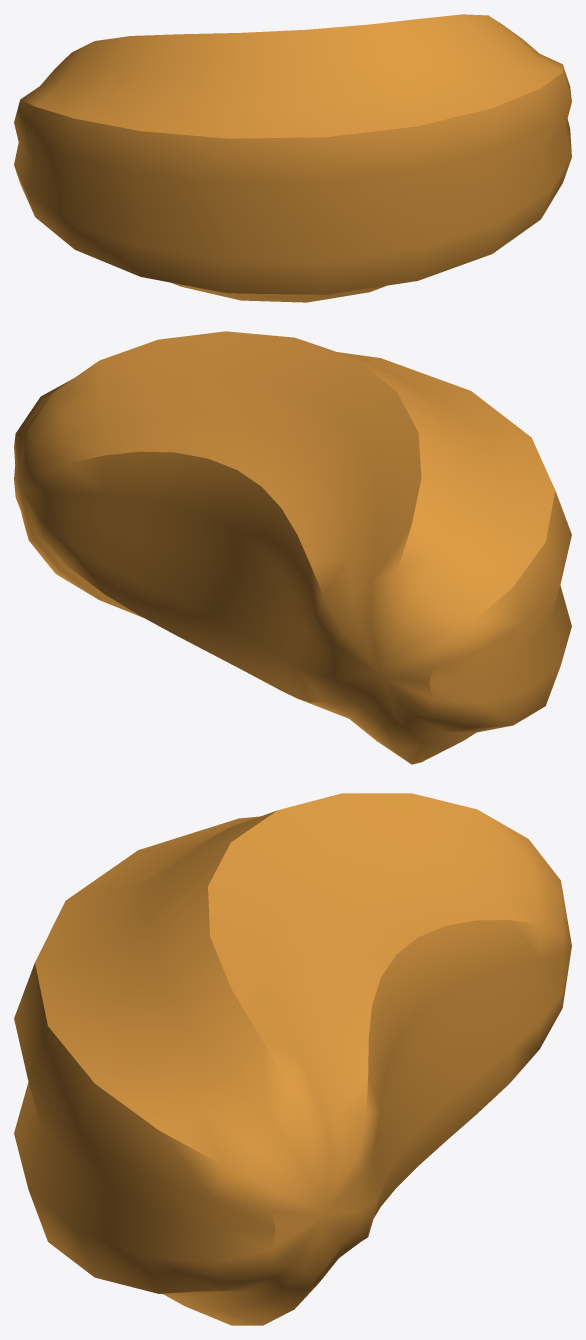
The model's file is Croissants.fbx.
3 renders of one model, top to bottom at view 1: azimuth 30°, elevation 25°; view 2: azimuth 150°, elevation 25°; view 3: azimuth 270°, elevation 25°, orthographic. The views are drawn at different scales.
Visible parts, largest first — view 1: Croissants; view 2: Croissants; view 3: Croissants.
Boxes of the visible parts, x1,y1,x2,y2 form: Croissants: (14, 14, 571, 302); Croissants: (14, 331, 571, 764); Croissants: (14, 793, 571, 1325).
Bounding box in the file's own units: 0.1179 × 0.066 × 0.0826.
